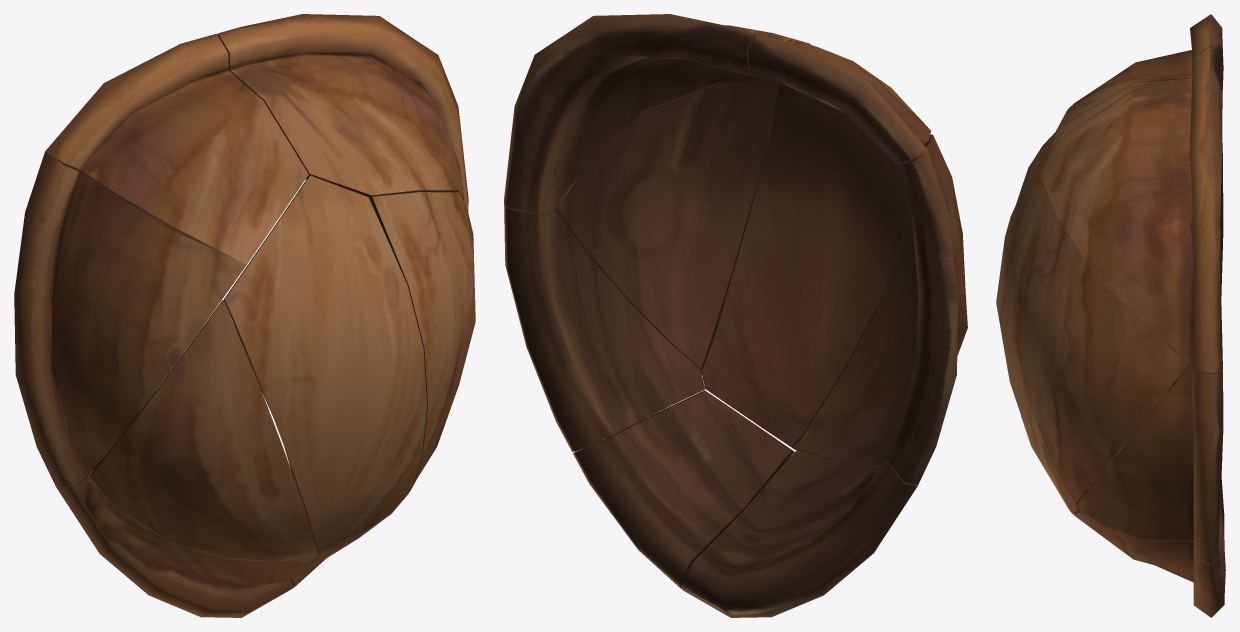
File: WalnutShieldBroken.fbx
The picture shows the model from 3 angles, left to right: view 1: azimuth 30°, elevation 25°; view 2: azimuth 150°, elevation 25°; view 3: azimuth 270°, elevation 25°; orthographic projection. The views are drawn at different scales.
Parts seen in each view (by area): view 1: WalnutShield_Fragment.005, WalnutShield_Fragment.006, WalnutShield_Fragment.007, WalnutShield_Fragment.001, WalnutShield_Fragment.008, WalnutShield_Fragment.009, WalnutShield_Fragment.004; view 2: WalnutShield_Fragment.005, WalnutShield_Fragment.009, WalnutShield_Fragment.001, WalnutShield_Fragment.002, WalnutShield_Fragment.004, WalnutShield_Fragment.003, WalnutShield_Fragment.006, WalnutShield_Fragment.008, WalnutShield_Fragment.007; view 3: WalnutShield_Fragment.001, WalnutShield_Fragment.009, WalnutShield_Fragment.002, WalnutShield_Fragment.005, WalnutShield_Fragment.003, WalnutShield_Fragment.007, WalnutShield_Fragment.004, WalnutShield_Fragment.006.
Boxes of the visible parts, bbox=[...] form: WalnutShield_Fragment.005: bbox=[224, 175, 427, 554]; WalnutShield_Fragment.006: bbox=[14, 151, 246, 486]; WalnutShield_Fragment.007: bbox=[45, 34, 308, 264]; WalnutShield_Fragment.001: bbox=[217, 14, 468, 208]; WalnutShield_Fragment.008: bbox=[90, 300, 316, 561]; WalnutShield_Fragment.009: bbox=[369, 192, 475, 481]; WalnutShield_Fragment.004: bbox=[56, 468, 317, 617]; WalnutShield_Fragment.005: bbox=[702, 83, 908, 447]; WalnutShield_Fragment.009: bbox=[553, 79, 779, 374]; WalnutShield_Fragment.001: bbox=[504, 14, 810, 214]; WalnutShield_Fragment.002: bbox=[504, 200, 705, 451]; WalnutShield_Fragment.004: bbox=[680, 451, 917, 617]; WalnutShield_Fragment.003: bbox=[573, 390, 794, 588]; WalnutShield_Fragment.006: bbox=[885, 134, 967, 484]; WalnutShield_Fragment.008: bbox=[792, 209, 917, 467]; WalnutShield_Fragment.007: bbox=[748, 34, 930, 163]; WalnutShield_Fragment.001: bbox=[1040, 46, 1223, 373]; WalnutShield_Fragment.009: bbox=[1015, 180, 1190, 502]; WalnutShield_Fragment.002: bbox=[1076, 363, 1223, 564]; WalnutShield_Fragment.005: bbox=[996, 130, 1087, 513]; WalnutShield_Fragment.003: bbox=[1073, 511, 1224, 617]; WalnutShield_Fragment.007: bbox=[1056, 14, 1223, 130]; WalnutShield_Fragment.004: bbox=[1091, 379, 1225, 617]; WalnutShield_Fragment.006: bbox=[1220, 143, 1223, 295].
Size of the model in its own units: 83.7 by 104 by 39.05.
1 material, 1 textured.
